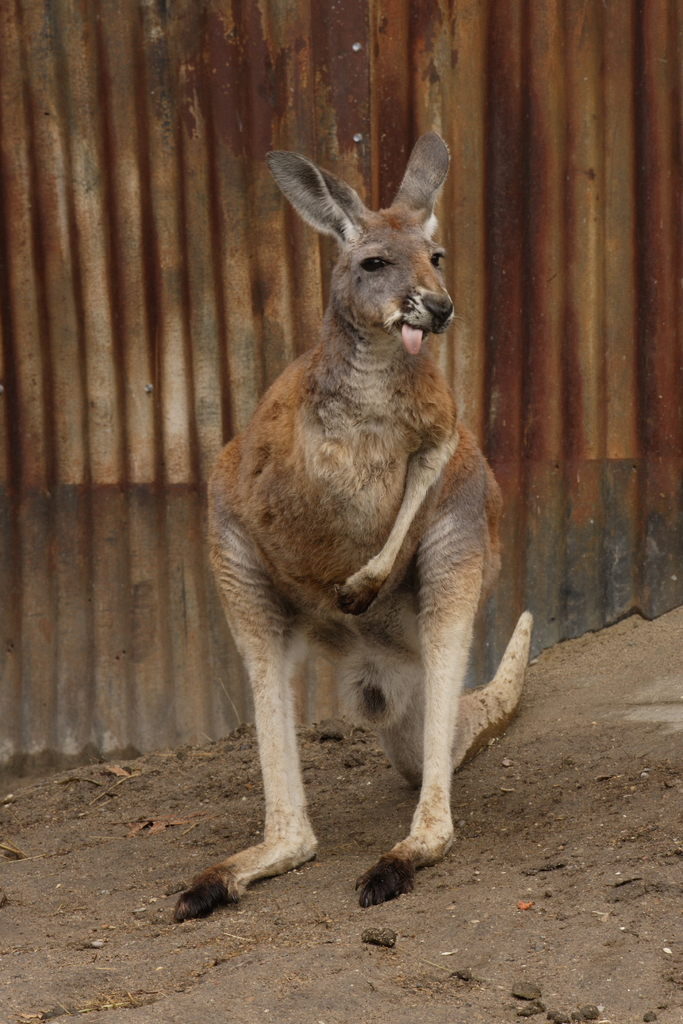kangaroo: (174, 129, 532, 921)
